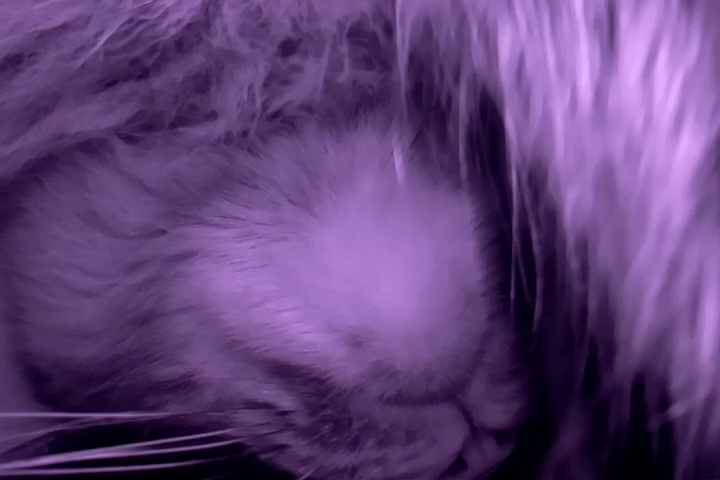Snout: (368, 303, 536, 477)
